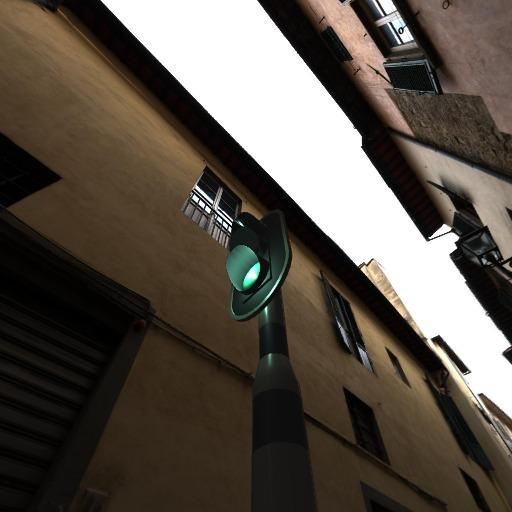Green_Light: (216, 209, 302, 327)
